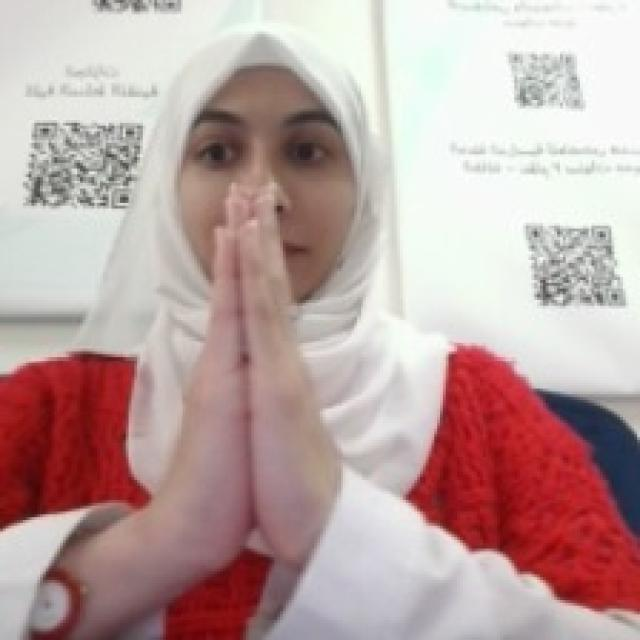sorry: (172, 206, 332, 580)
